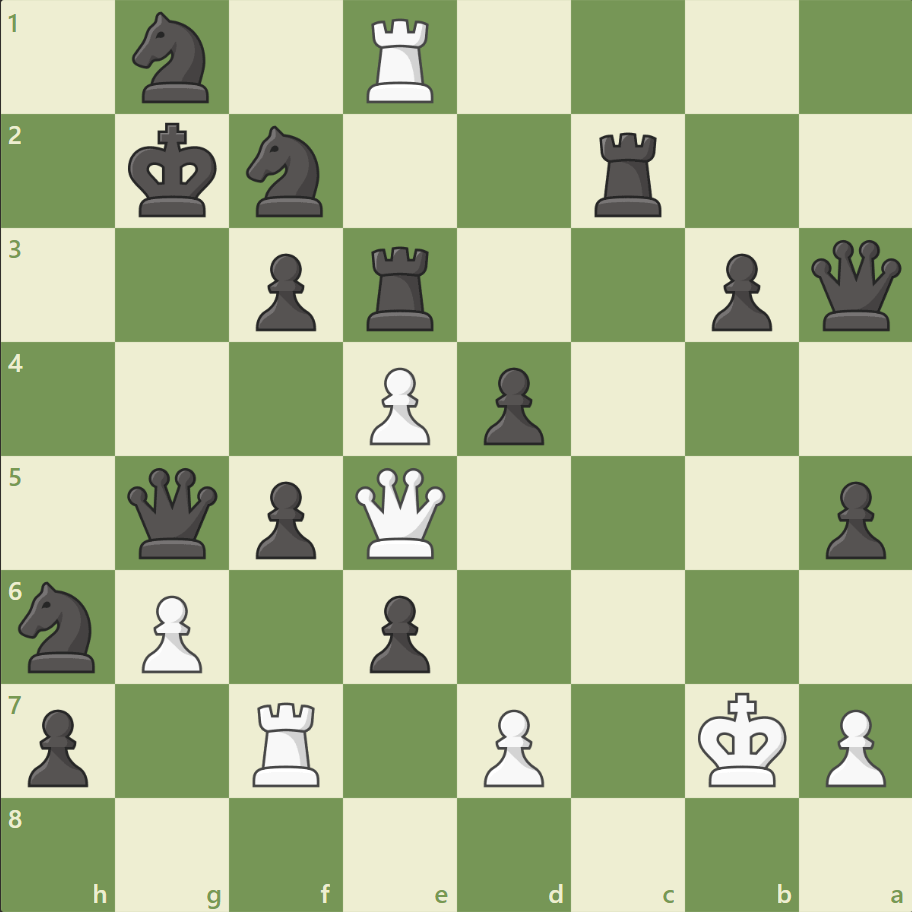K: (692, 685, 792, 793)
P: (474, 700, 549, 791), (133, 586, 208, 677), (815, 700, 889, 791), (361, 359, 435, 450)
Q: (351, 463, 450, 562)
R: (246, 693, 329, 790), (360, 12, 442, 109)
k: (124, 117, 224, 225)
n: (124, 7, 222, 110), (11, 575, 108, 677), (238, 121, 335, 223)
p: (20, 700, 95, 791), (247, 473, 322, 564), (474, 359, 549, 450), (701, 246, 776, 337), (247, 246, 322, 337), (361, 586, 435, 677), (815, 473, 889, 564)
q: (124, 463, 223, 562), (805, 236, 904, 335)
r: (587, 125, 670, 222), (360, 239, 442, 336)
